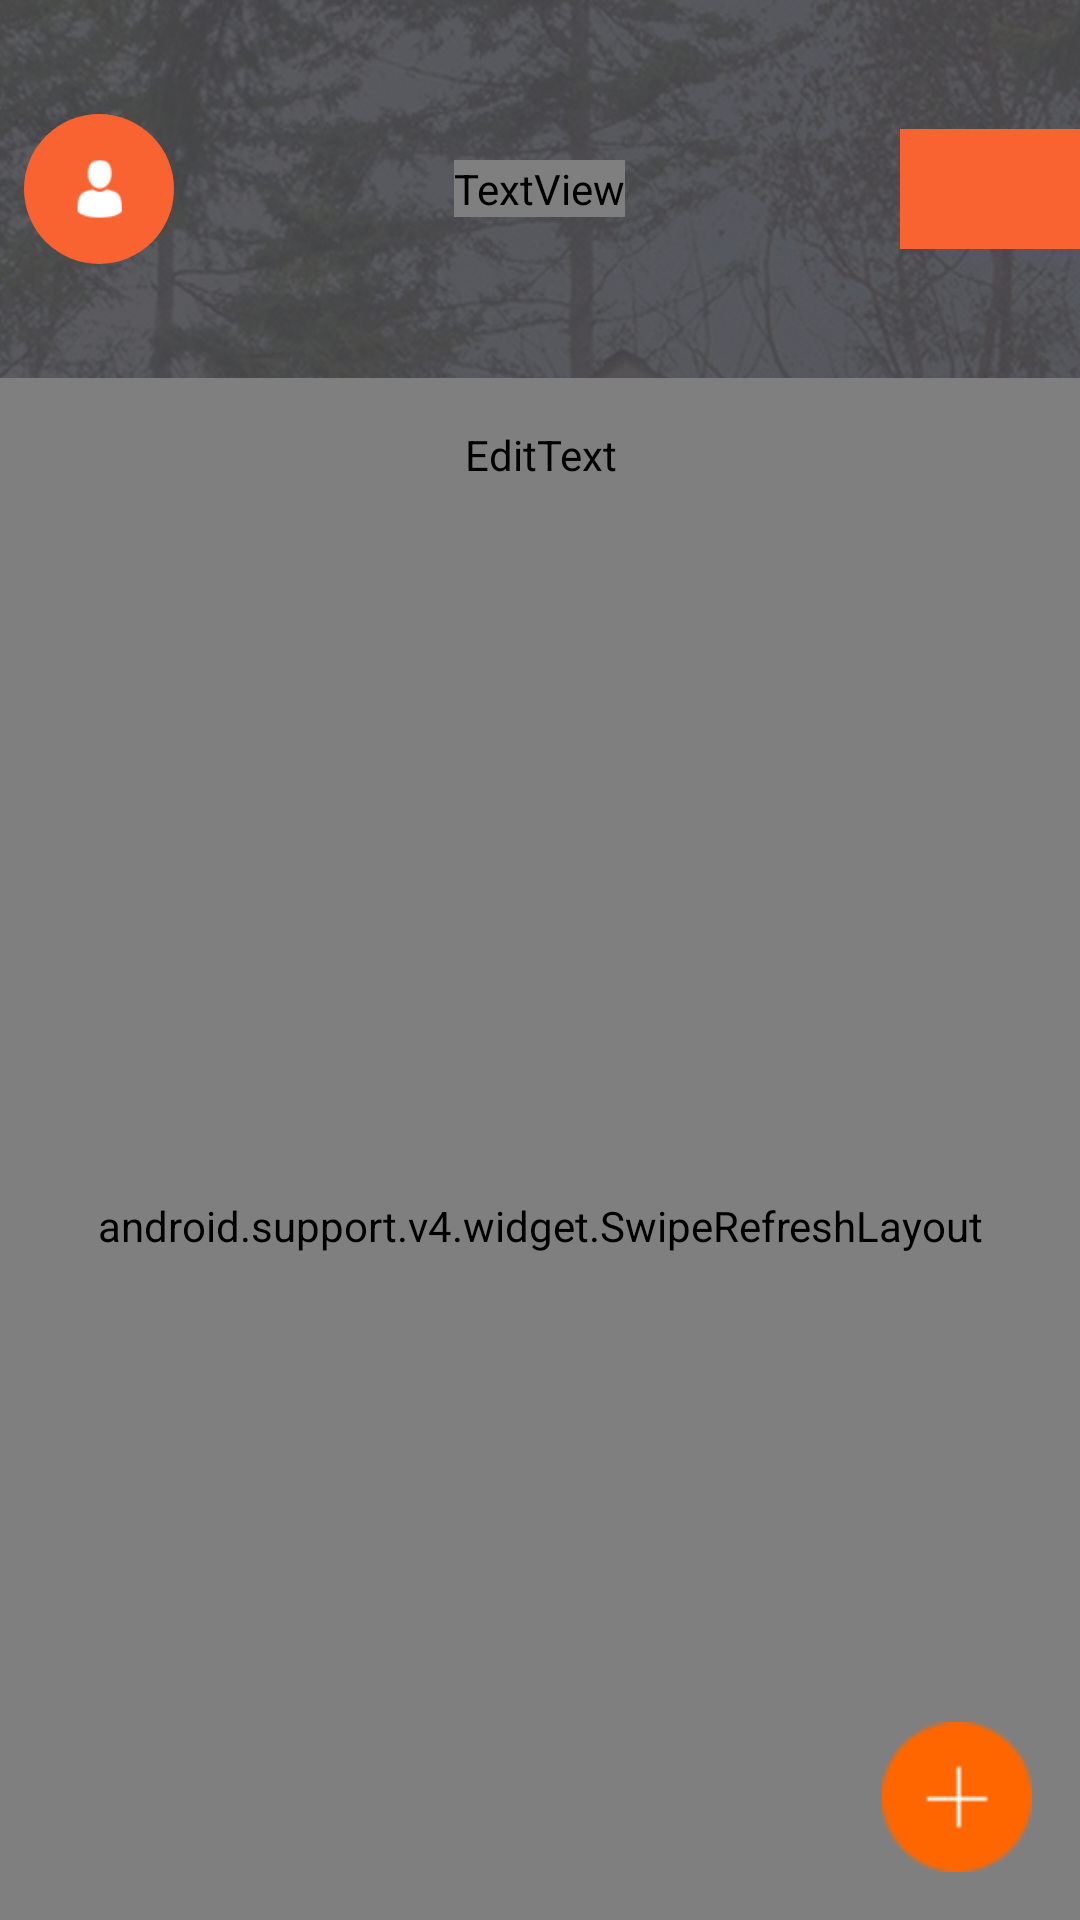

Icons on this 1080×1920 Android screen, each with its box as detection(x1, y1, x2, y2):
plus: detection(882, 1722, 1032, 1872)
